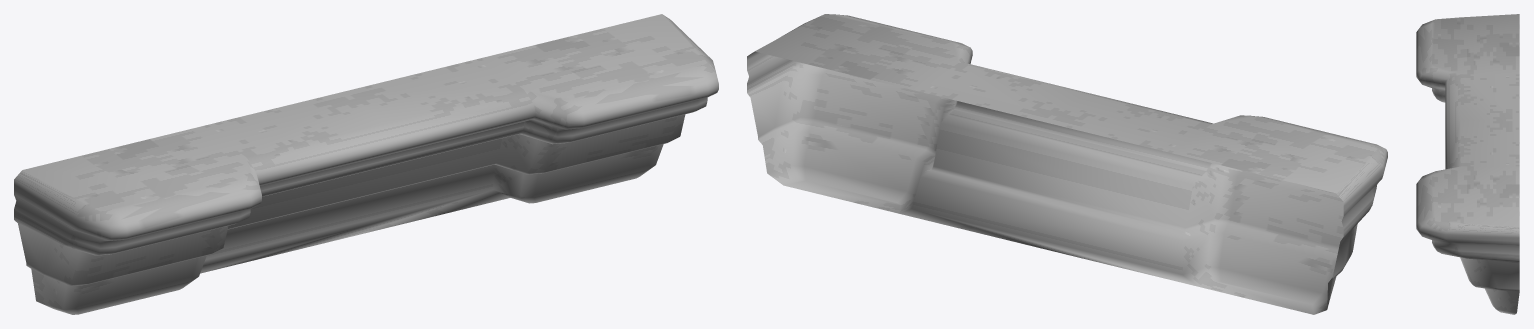
3 views of the same model, side by side, from view 1: azimuth 30°, elevation 25°; view 2: azimuth 150°, elevation 25°; view 3: azimuth 270°, elevation 25° (orthographic). The views are drawn at different scales.
Parts seen in each view (by area): view 1: Wall_Frame_A.007; view 2: Wall_Frame_A.007; view 3: Wall_Frame_A.007.
Boxes of the visible parts, x1,y1,x2,y2 form: Wall_Frame_A.007: (14, 14, 718, 314); Wall_Frame_A.007: (747, 14, 1387, 314); Wall_Frame_A.007: (1416, 14, 1519, 314).
Size of the model in its own units: 137814 by 28751 by 27540.
Materials: 1 (1 with a texture image).
